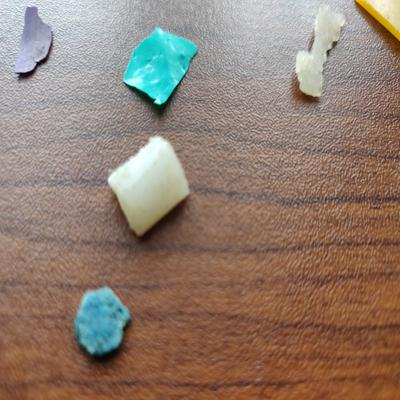plastic: (104, 128, 192, 240), (119, 23, 201, 115), (288, 7, 348, 112), (72, 281, 135, 362), (11, 1, 60, 84)
